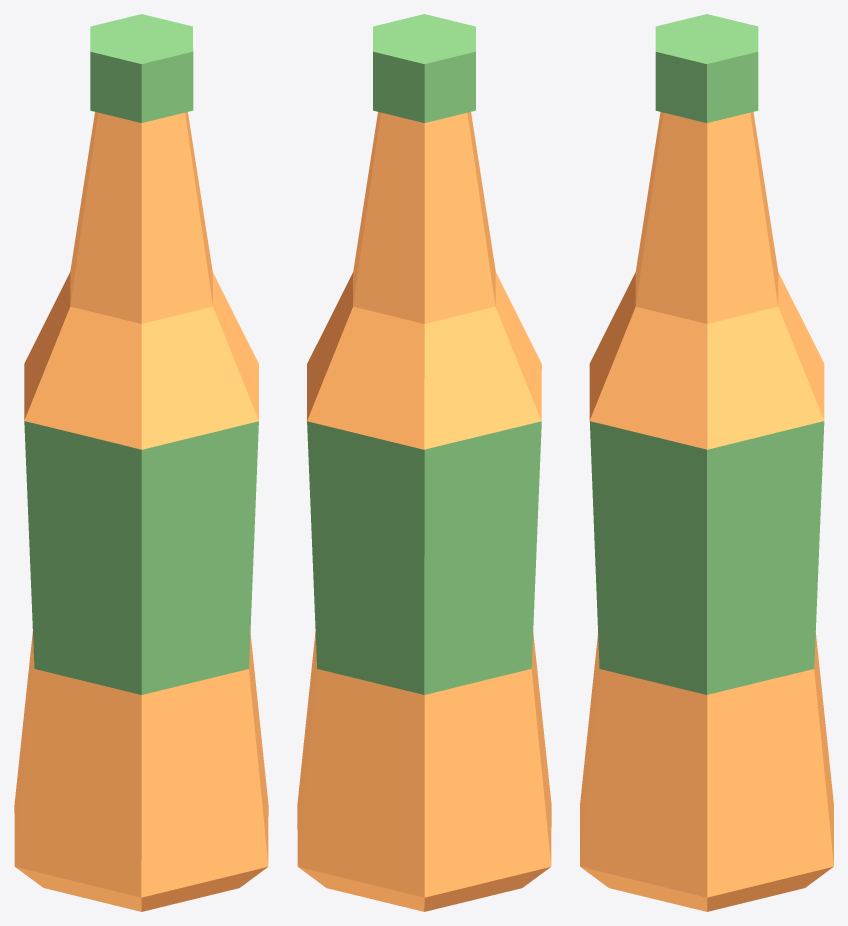
Rendered from beer_bottle.gltf.
3 views of the same model, side by side, from view 1: azimuth 30°, elevation 25°; view 2: azimuth 150°, elevation 25°; view 3: azimuth 270°, elevation 25° (orthographic).
Parts seen in each view (by area): view 1: Mesh_sodaBottle, Mesh_sodaBottle_1; view 2: Mesh_sodaBottle, Mesh_sodaBottle_1; view 3: Mesh_sodaBottle, Mesh_sodaBottle_1.
Part boxes in pixels (box(x1,y1,x2,y2)): Mesh_sodaBottle: box(14, 112, 268, 911); Mesh_sodaBottle_1: box(24, 14, 258, 694); Mesh_sodaBottle: box(297, 112, 551, 911); Mesh_sodaBottle_1: box(307, 14, 541, 694); Mesh_sodaBottle: box(580, 112, 833, 911); Mesh_sodaBottle_1: box(589, 14, 824, 694).
Bounding box in the file's own units: 0.1805 × 0.5604 × 0.1564.
